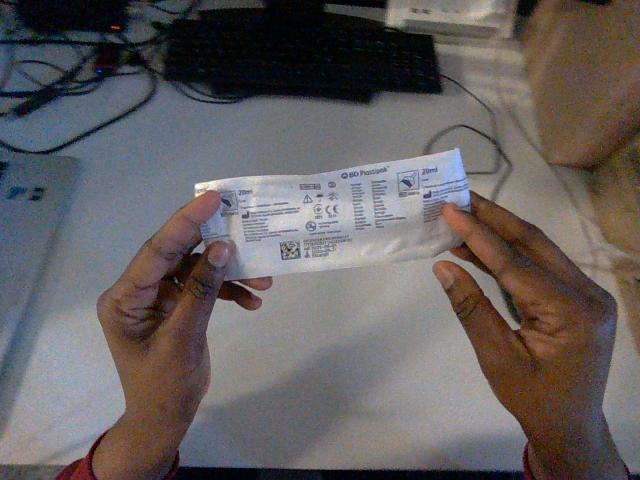syringe: (195, 149, 469, 279)
